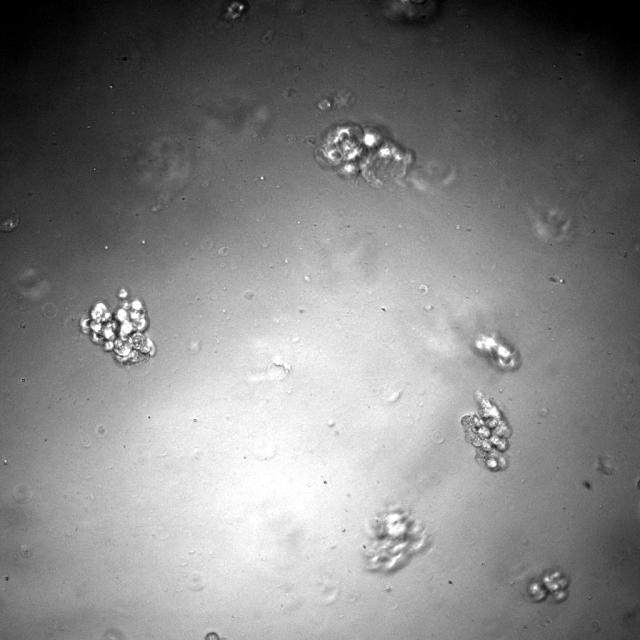organoid: (314, 120, 414, 187), (81, 289, 155, 364), (364, 507, 427, 570), (461, 391, 510, 470), (474, 335, 521, 371), (527, 570, 568, 601)
